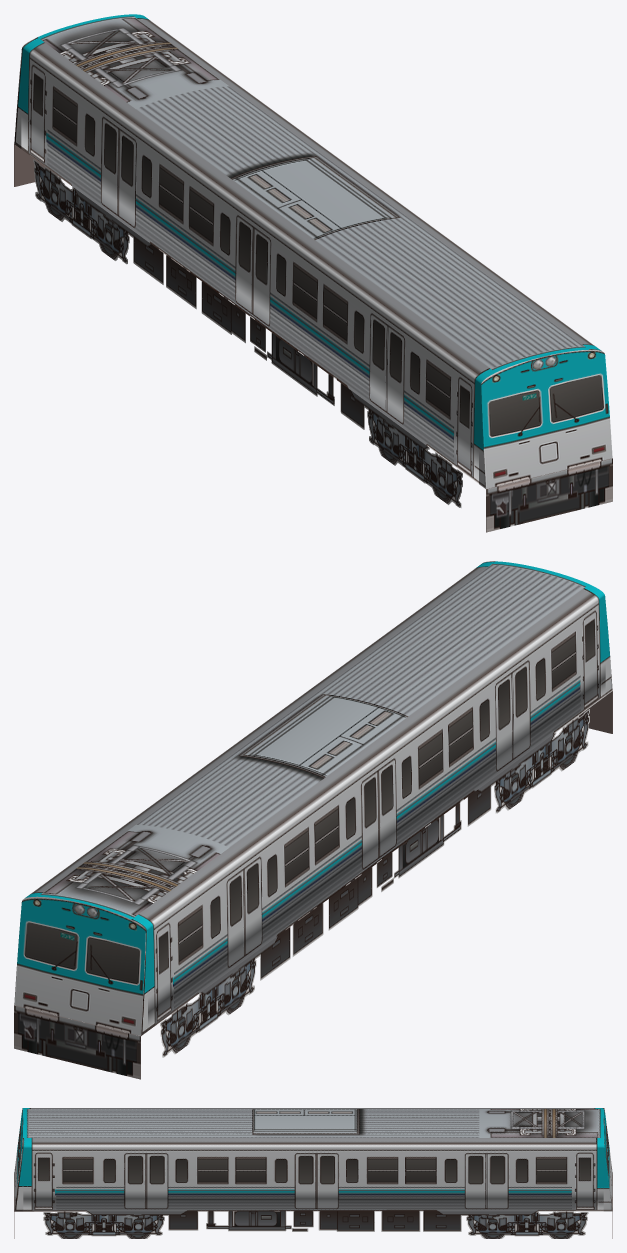
Rendered from car1.glb.
3 renders of one model, top to bottom at view 1: azimuth 30°, elevation 25°; view 2: azimuth 150°, elevation 25°; view 3: azimuth 270°, elevation 25°, orthographic. The views are drawn at different scales.
Parts seen in each view (by area): view 1: gakunan7000-car1; view 2: gakunan7000-car1; view 3: gakunan7000-car1.
Part boxes in pixels (x1=…): gakunan7000-car1: x1=14, y1=14, x2=612, y2=532; gakunan7000-car1: x1=14, y1=561, x2=612, y2=1079; gakunan7000-car1: x1=14, y1=1108, x2=612, y2=1238.
Size of the model in its own units: 2.87 by 3.36 by 18.53.
5 materials, 4 textured.
